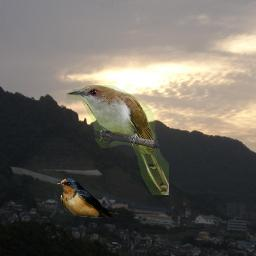Cuckoo: (66, 85, 169, 195)
Swallow: (56, 178, 136, 218)
